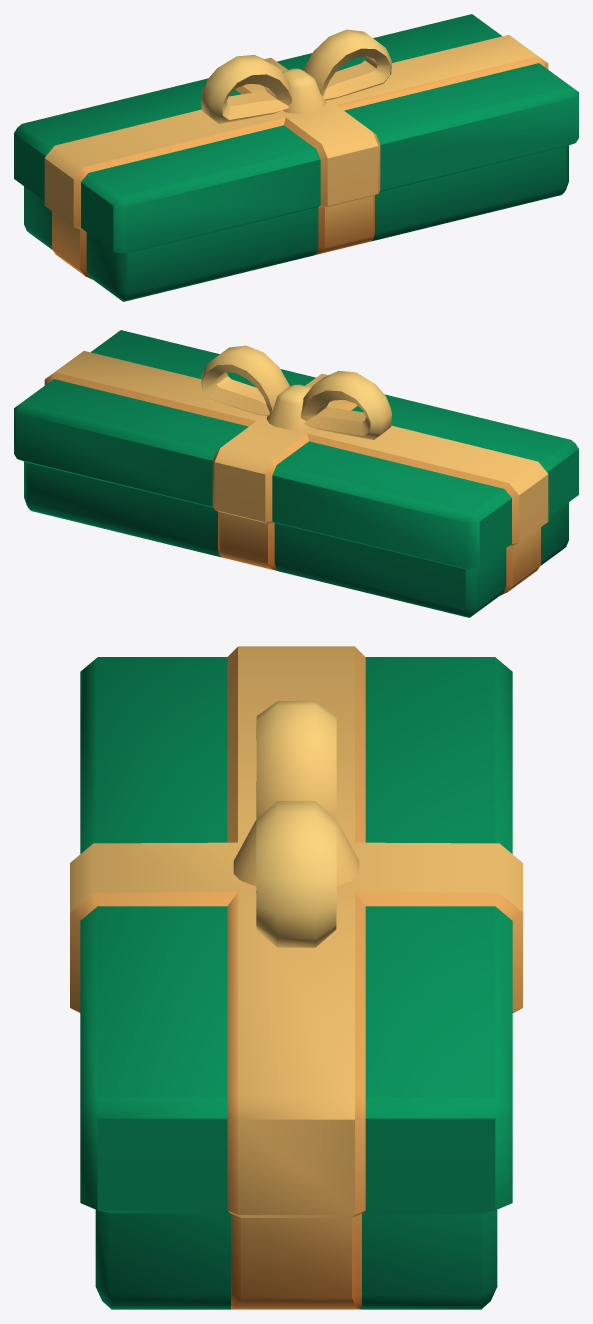
The model's file is present_E_green.glb.
3 views of the same model, one above another, from view 1: azimuth 30°, elevation 25°; view 2: azimuth 150°, elevation 25°; view 3: azimuth 270°, elevation 25° (orthographic). The views are drawn at different scales.
Visible parts, largest first — view 1: present_E_green; view 2: present_E_green; view 3: present_E_green.
Boxes of the visible parts, bbox=[...] form: present_E_green: bbox=[14, 14, 578, 301]; present_E_green: bbox=[14, 330, 578, 617]; present_E_green: bbox=[70, 646, 522, 1309].
Size of the model in its own units: 1.36 by 0.4617 by 0.5638.
1 material, 1 textured.
